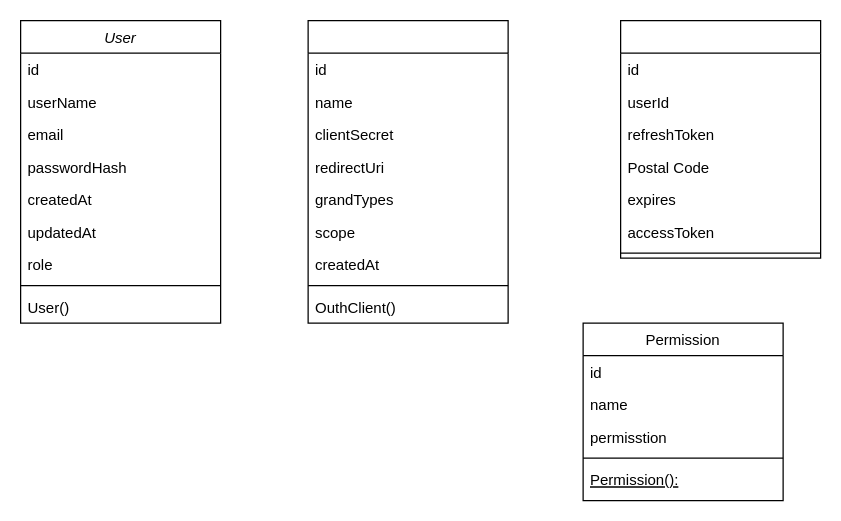
This 841x521 diagram has some shape labels left out. The shapes that lost their labels are listed below. From the top down, each one's box as (x1, y1, x2, y2) in pixels, then its label:
(619, 19, 821, 258): oauthTokens
(307, 19, 508, 323): OauthClient
